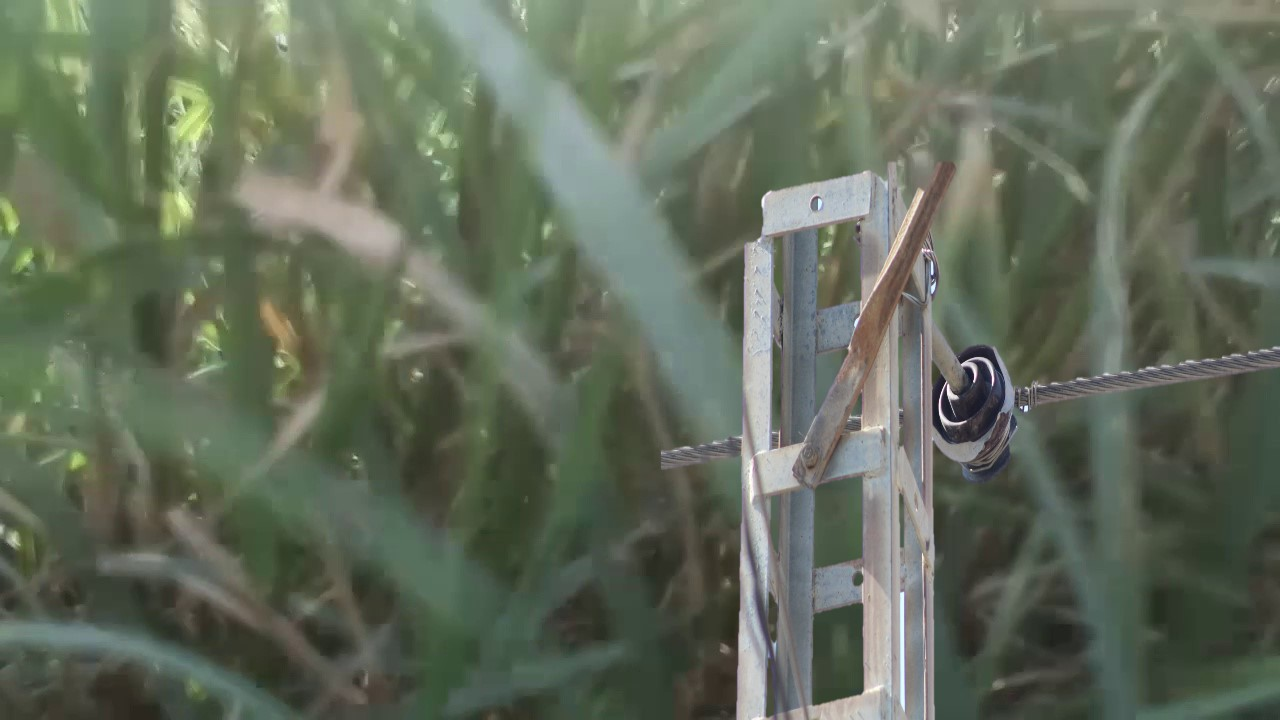defect_pin: (929, 339, 1025, 489)
